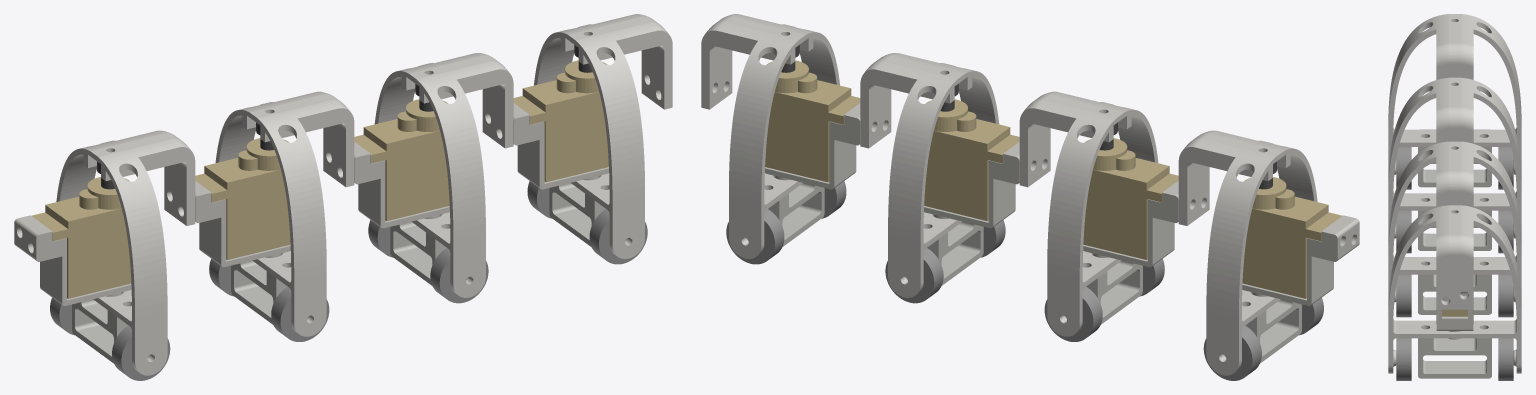
Rendered from snake_4node_straight.glb.
3 views of the same model, side by side, from view 1: azimuth 30°, elevation 25°; view 2: azimuth 150°, elevation 25°; view 3: azimuth 270°, elevation 25° (orthographic). The views are drawn at different scales.
Parts seen in each view (by area): view 1: n0_rib, n1_rib, n2_rib, n3_rib, n3_mg90s, n2_mg90s, n1_mg90s, n0_mg90s, n0_coupler, n3_coupler, n1_coupler, n2_coupler (+12 smaller); view 2: n0_rib, n1_rib, n2_rib, n3_rib, n3_mg90s, n2_mg90s, n1_mg90s, n0_mg90s, n0_coupler, n3_coupler, n1_coupler, n2_coupler (+12 smaller); view 3: n3_rib, n2_rib, n1_rib, n0_rib, n3_wire_guide, n2_wire_guide, n0_wire_guide, n1_wire_guide, n3_coupler, n2_wheel_R, n2_wheel_L, n3_wheel_R (+6 smaller).
Boxes of the visible parts, bbox=[...] form: n0_rib: bbox=[56, 130, 195, 375]; n1_rib: bbox=[215, 91, 354, 336]; n2_rib: bbox=[374, 53, 513, 297]; n3_rib: bbox=[534, 14, 672, 258]; n3_mg90s: bbox=[513, 60, 608, 182]; n2_mg90s: bbox=[354, 99, 449, 221]; n1_mg90s: bbox=[195, 138, 290, 259]; n0_mg90s: bbox=[31, 177, 131, 298]; n0_coupler: bbox=[14, 215, 131, 305]; n3_coupler: bbox=[513, 103, 608, 189]; n1_coupler: bbox=[195, 181, 290, 267]; n2_coupler: bbox=[354, 142, 449, 228]; n0_rib: bbox=[1178, 130, 1317, 375]; n1_rib: bbox=[1019, 91, 1158, 336]; n2_rib: bbox=[860, 53, 999, 297]; n3_rib: bbox=[701, 14, 839, 258]; n3_mg90s: bbox=[765, 60, 860, 182]; n2_mg90s: bbox=[924, 99, 1019, 221]; n1_mg90s: bbox=[1083, 138, 1178, 259]; n0_mg90s: bbox=[1242, 177, 1342, 298]; n0_coupler: bbox=[1242, 215, 1359, 305]; n3_coupler: bbox=[765, 103, 860, 189]; n1_coupler: bbox=[1083, 181, 1178, 267]; n2_coupler: bbox=[924, 142, 1019, 228]; n3_rib: bbox=[1388, 205, 1521, 373]; n2_rib: bbox=[1388, 141, 1521, 304]; n1_rib: bbox=[1388, 77, 1521, 240]; n0_rib: bbox=[1388, 14, 1521, 177]; n3_wire_guide: bbox=[1418, 338, 1491, 378]; n2_wire_guide: bbox=[1418, 274, 1491, 314]; n0_wire_guide: bbox=[1418, 147, 1491, 187]; n1_wire_guide: bbox=[1418, 210, 1491, 250]; n3_coupler: bbox=[1436, 291, 1473, 339]; n2_wheel_R: bbox=[1396, 274, 1411, 317]; n2_wheel_L: bbox=[1498, 274, 1513, 317]; n3_wheel_R: bbox=[1396, 338, 1411, 380].
Bounding box in the file's own units: 195 × 59.8 × 43.2.
